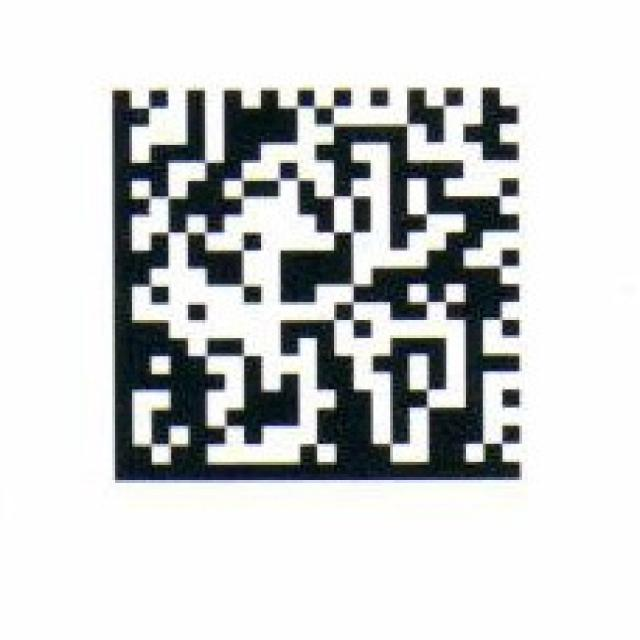datamatrix: (101, 85, 528, 486)
